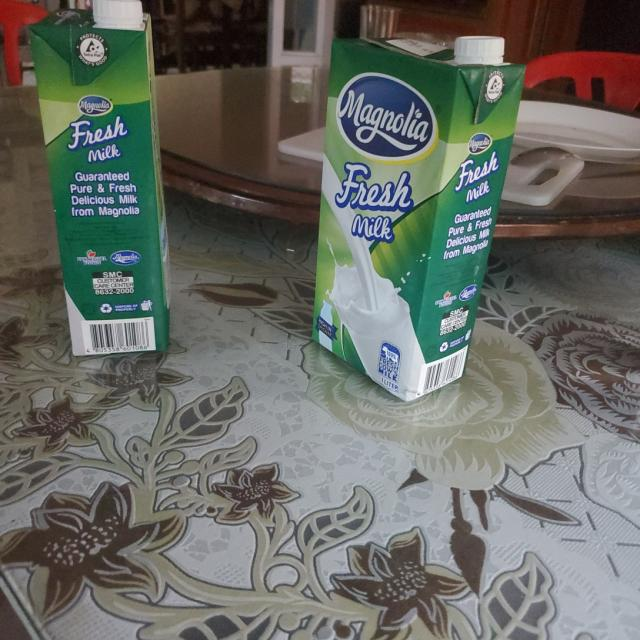milk: (314, 38, 528, 403), (26, 0, 173, 352)
